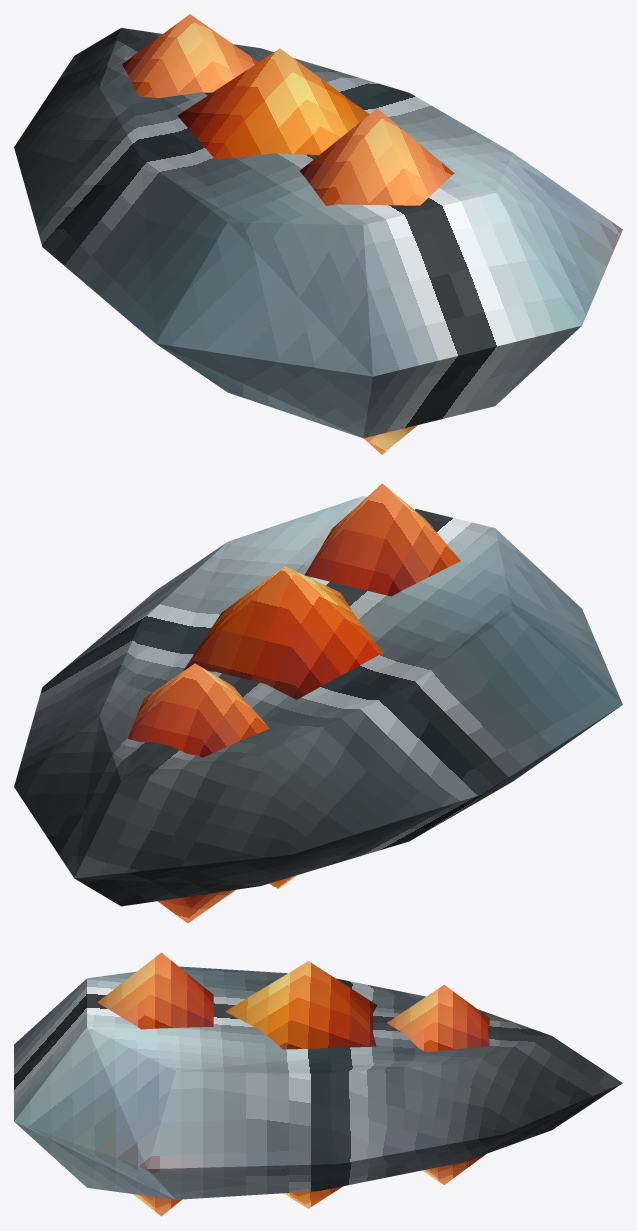
File: godesteel.glb
3 renders of one model, top to bottom at view 1: azimuth 30°, elevation 25°; view 2: azimuth 150°, elevation 25°; view 3: azimuth 270°, elevation 25°, orthographic. The views are drawn at different scales.
Parts seen in each view (by area): view 1: model_godesteel; view 2: model_godesteel; view 3: model_godesteel.
Boxes of the visible parts, box(x1,y1,x2,y2) form: model_godesteel: box(14, 14, 622, 454); model_godesteel: box(14, 483, 622, 923); model_godesteel: box(14, 952, 622, 1216).
Size of the model in its own units: 0.2114 by 0.1503 by 0.3161.
Materials: 3 (3 with a texture image).
